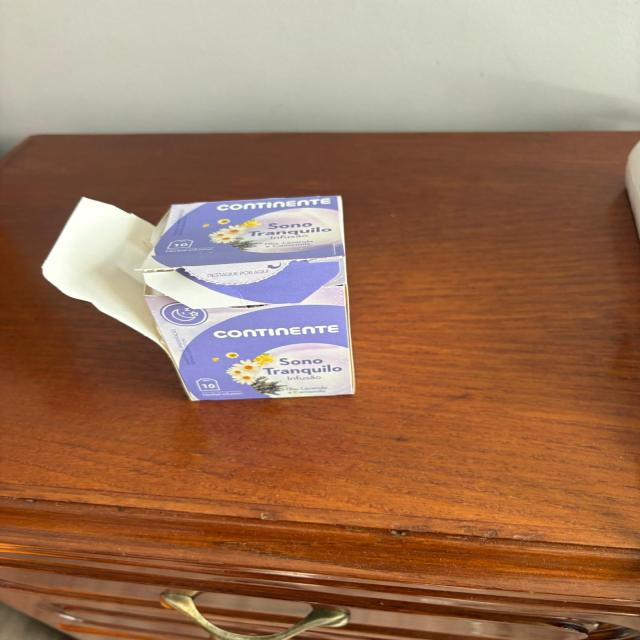damaged_package: (42, 195, 360, 402)
